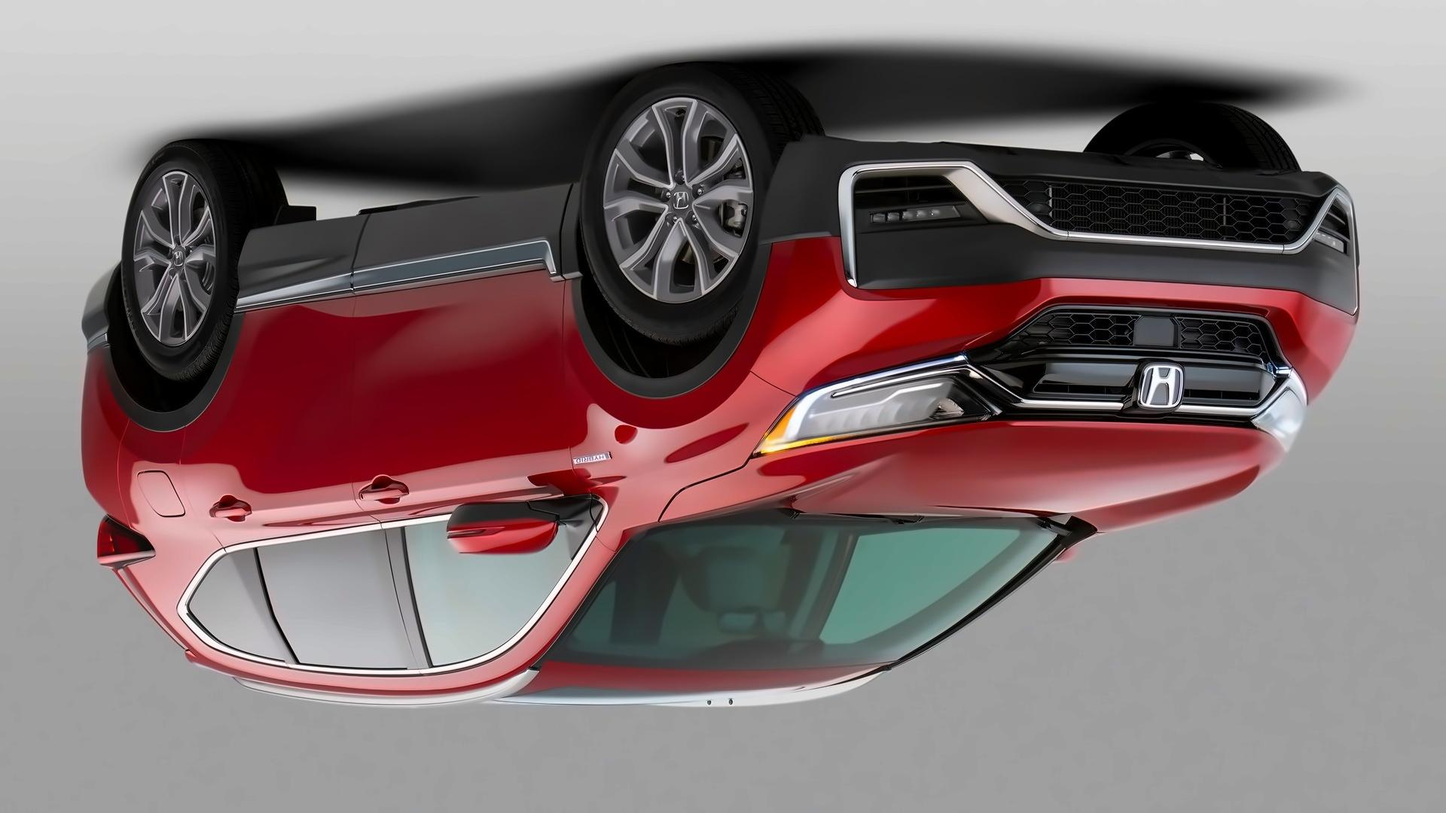Car hood: (654, 416, 1294, 535)
Fender - -F-L-: (559, 179, 797, 556)
Fender - -R-L-: (113, 380, 228, 576)
Front bumper: (716, 117, 1369, 380)
Headlight - -L-: (748, 343, 1015, 463)
Headlight - -R-: (1237, 358, 1316, 460)
Passenger-s door - -F-L-: (347, 264, 604, 686)
Passenger-s door - -R-L-: (175, 281, 345, 692)
Rear bumper: (59, 254, 130, 533)
Rear light - -L-: (83, 499, 169, 583)
Side bumper - -L-: (220, 173, 595, 320)
Side mirror - -L-: (439, 480, 580, 573)
Side mirror - -R-: (1038, 523, 1100, 576)
